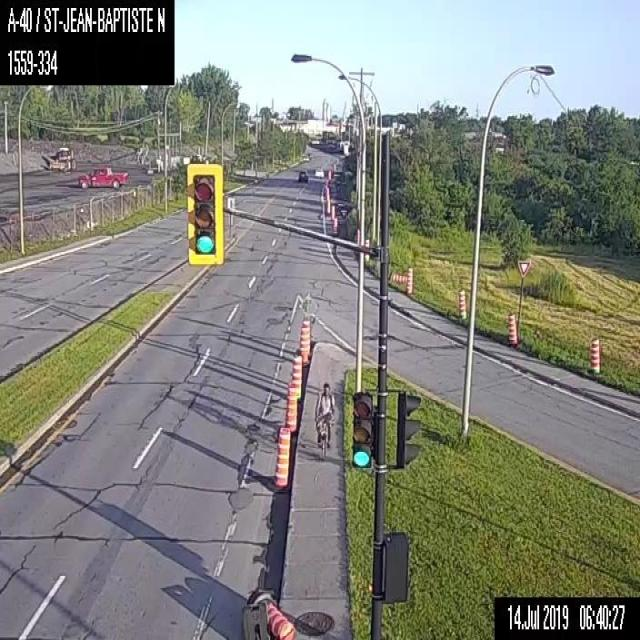construction: (242, 586, 296, 638), (274, 426, 290, 490), (284, 384, 296, 433), (290, 354, 302, 401), (298, 316, 310, 362), (588, 336, 599, 372), (456, 286, 466, 318), (508, 308, 516, 344), (389, 272, 406, 282), (406, 265, 412, 292), (332, 219, 338, 235), (364, 237, 368, 261), (356, 227, 360, 243), (330, 204, 334, 219), (326, 199, 330, 213), (326, 187, 329, 200)
cyclist: (314, 381, 334, 459)
vehicle: (78, 165, 127, 189), (48, 147, 74, 169), (297, 170, 308, 182), (314, 168, 324, 177)
